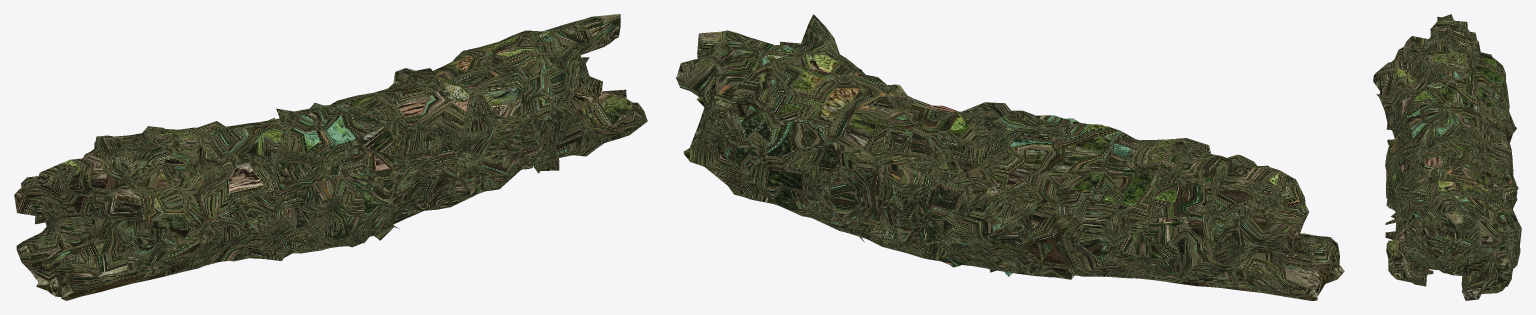
File: driftwood.glb
3 renders of one model, left to right at view 1: azimuth 30°, elevation 25°; view 2: azimuth 150°, elevation 25°; view 3: azimuth 270°, elevation 25°, orthographic. The views are drawn at different scales.
Size of the model in its own units: 1.89 by 0.5068 by 0.5257.
1 material, 1 textured.
